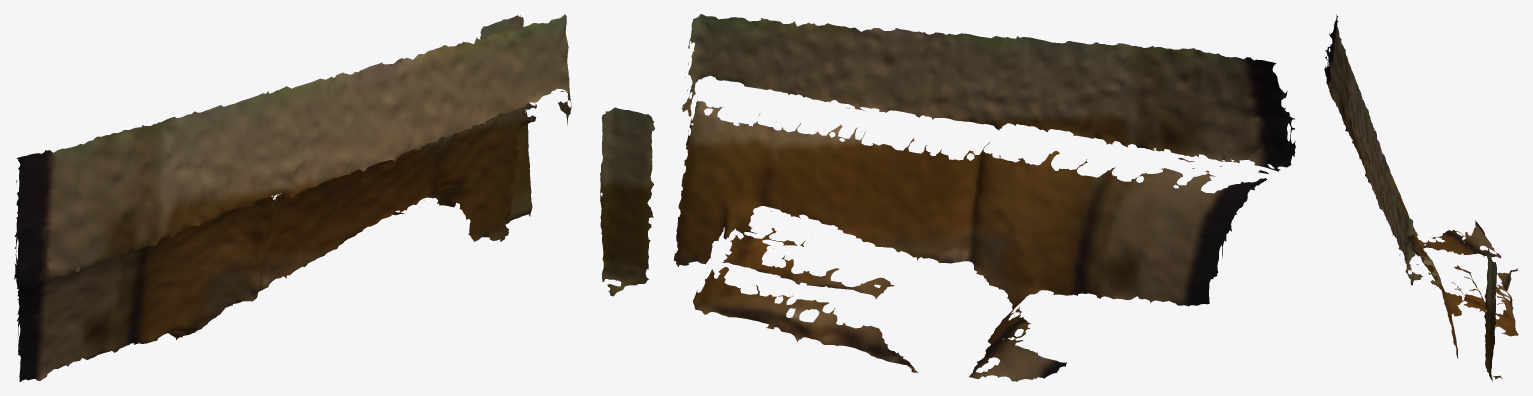
File: color_model_f003_20260205_110845.obj
The picture shows the model from 3 angles, left to right: view 1: azimuth 30°, elevation 25°; view 2: azimuth 150°, elevation 25°; view 3: azimuth 270°, elevation 25°; orthographic projection. The views are drawn at different scales.
Bounding box in the file's own units: 1.82 × 0.8424 × 0.7945.
